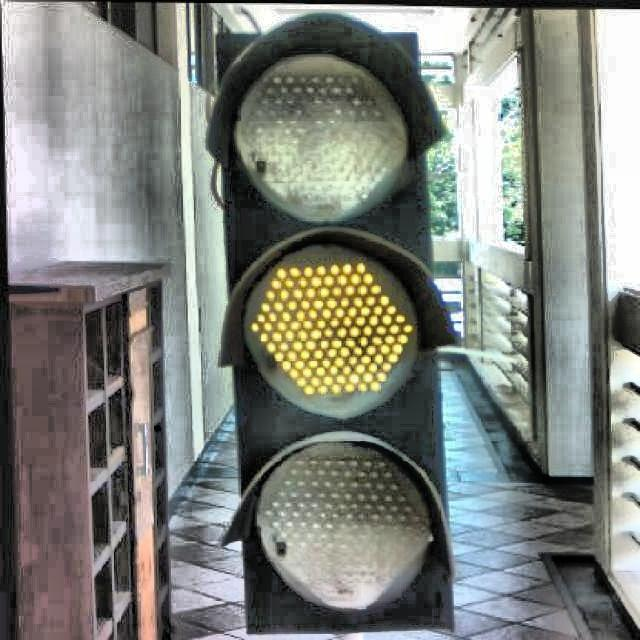yellow: (229, 34, 456, 620)
